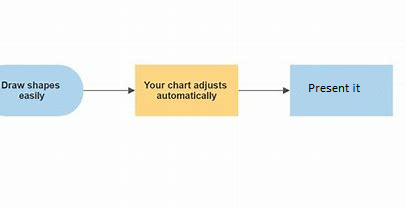arrow: (82, 85, 136, 95), (237, 86, 290, 95)
process: (133, 62, 241, 118), (288, 63, 394, 118), (1, 64, 85, 117)
text: (143, 80, 229, 102), (1, 80, 61, 102), (307, 81, 362, 93)
